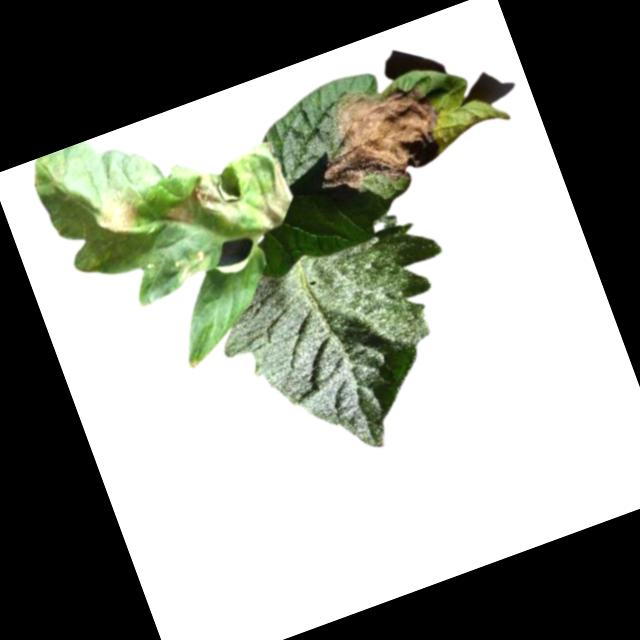Late_blight: (300, 67, 460, 207), (239, 150, 306, 235), (188, 168, 249, 236), (90, 188, 150, 246), (169, 246, 216, 286), (163, 199, 197, 233)
